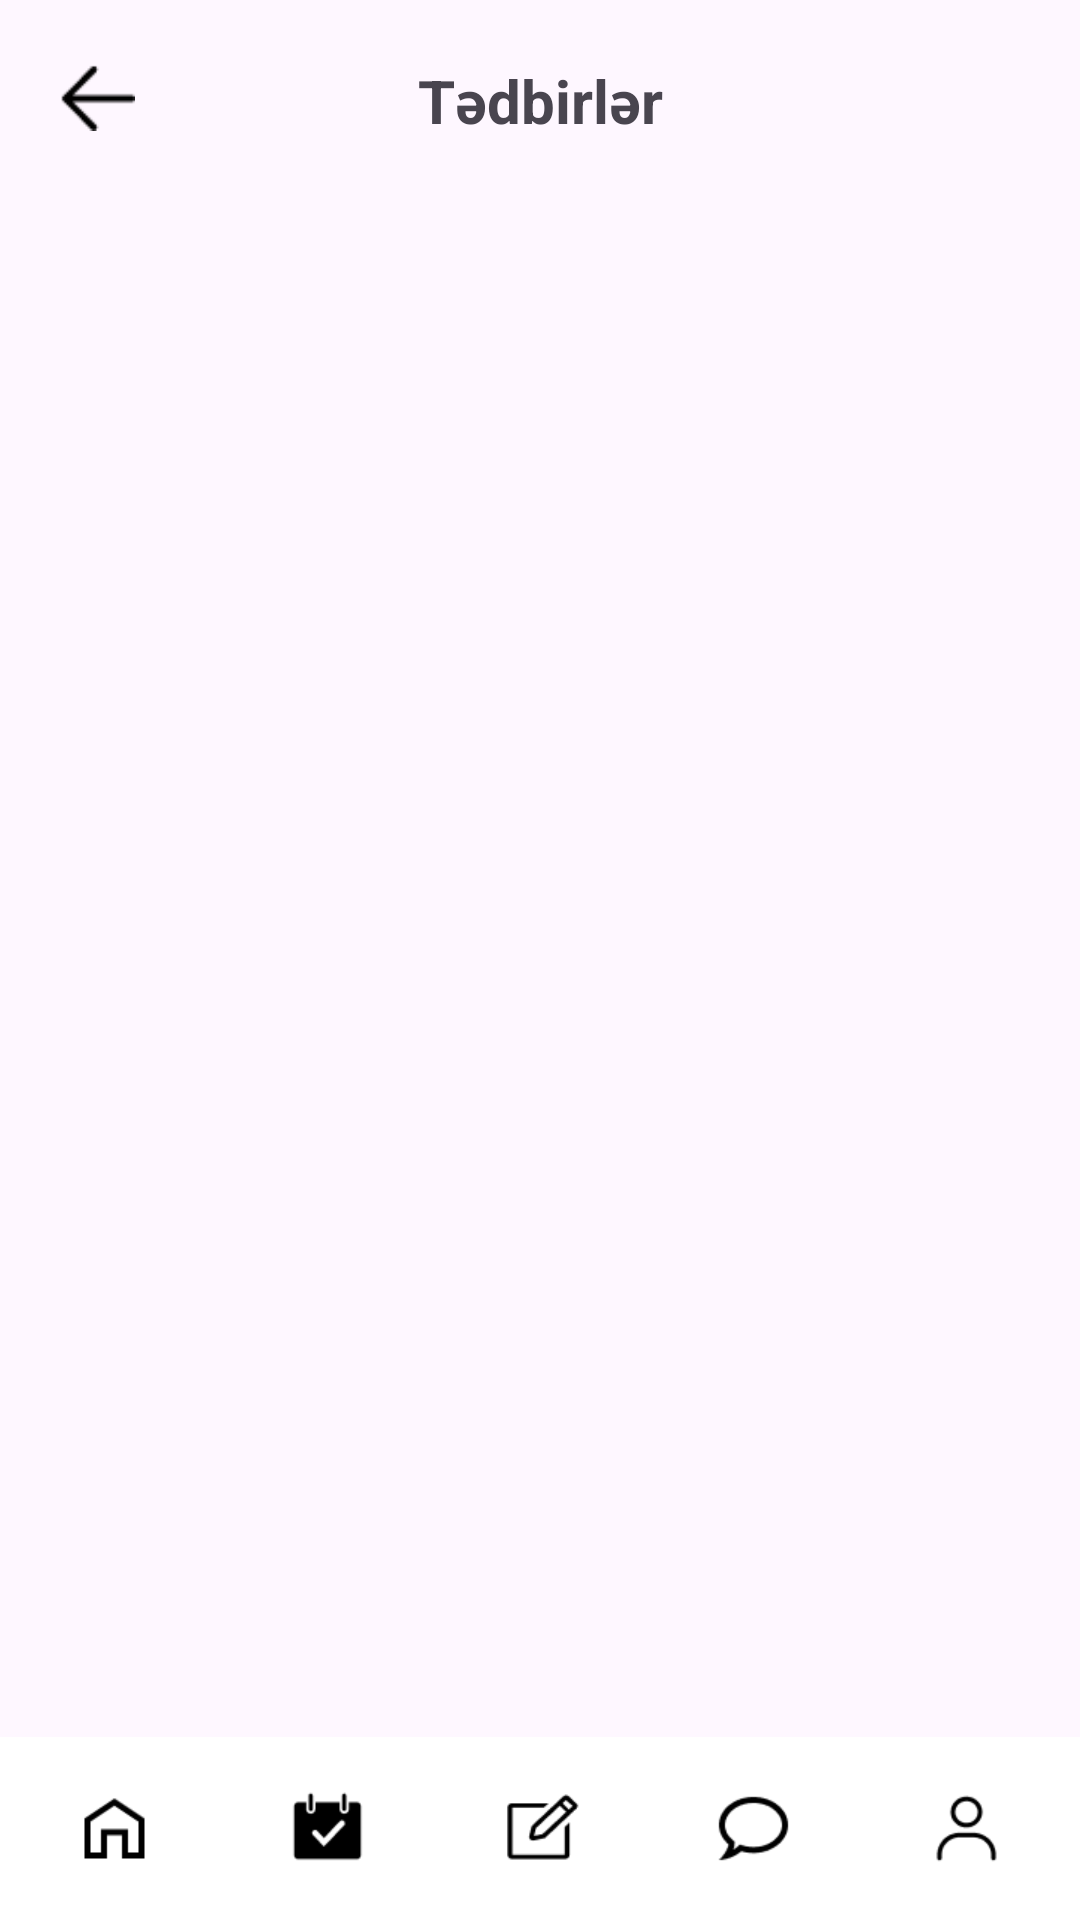

Screen size 1080px x 1920px. Icon name, then its box in pixels as (x1,y1,x2,y2):
account: (936,1795,997,1861)
backarrow: (61,66,135,131)
eventactive: (293,1792,362,1860)
exam: (507,1794,579,1860)
home: (84,1798,145,1859)
